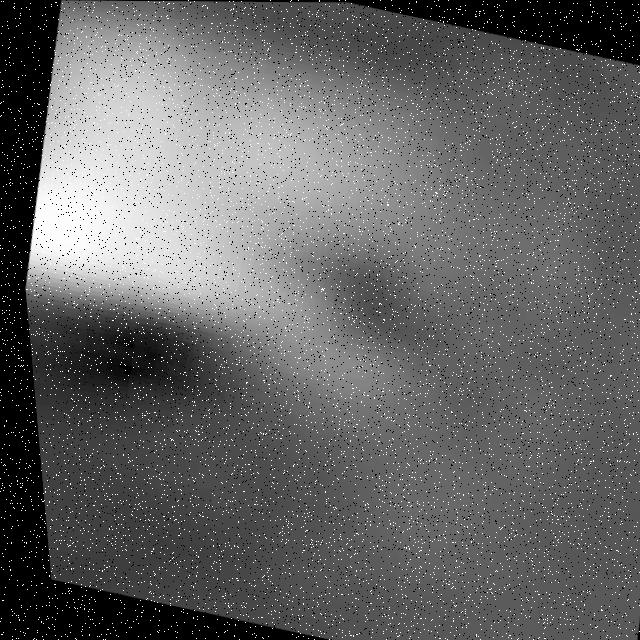person: (1, 1, 620, 455)
